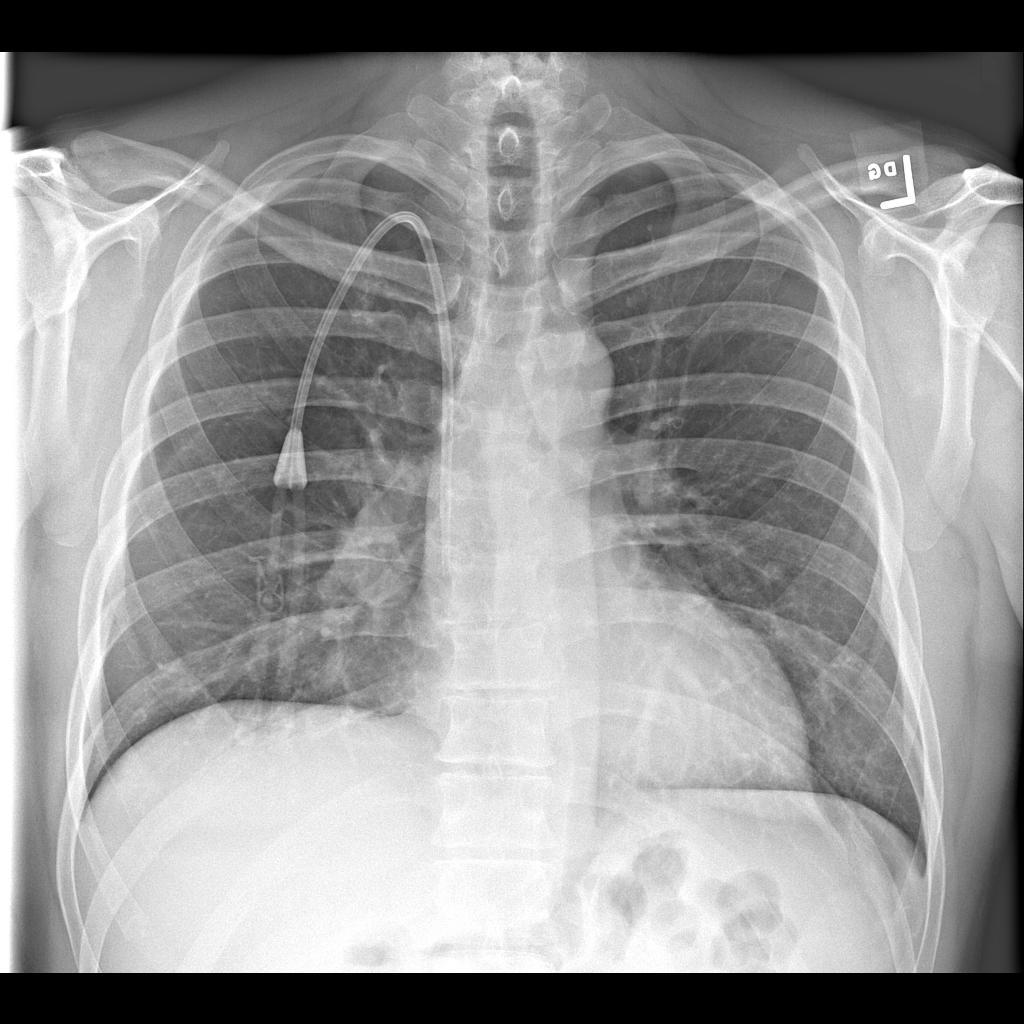Nodule: (335, 515, 421, 612)
